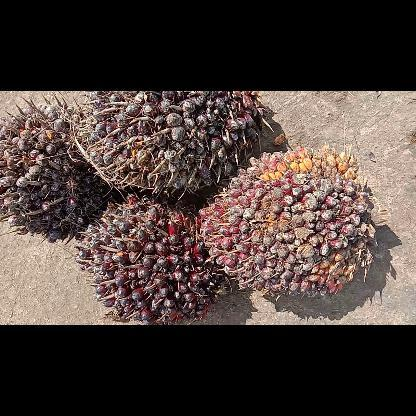Kurang masak: (194, 150, 390, 294), (78, 91, 274, 203), (76, 196, 231, 324), (0, 91, 122, 242)
